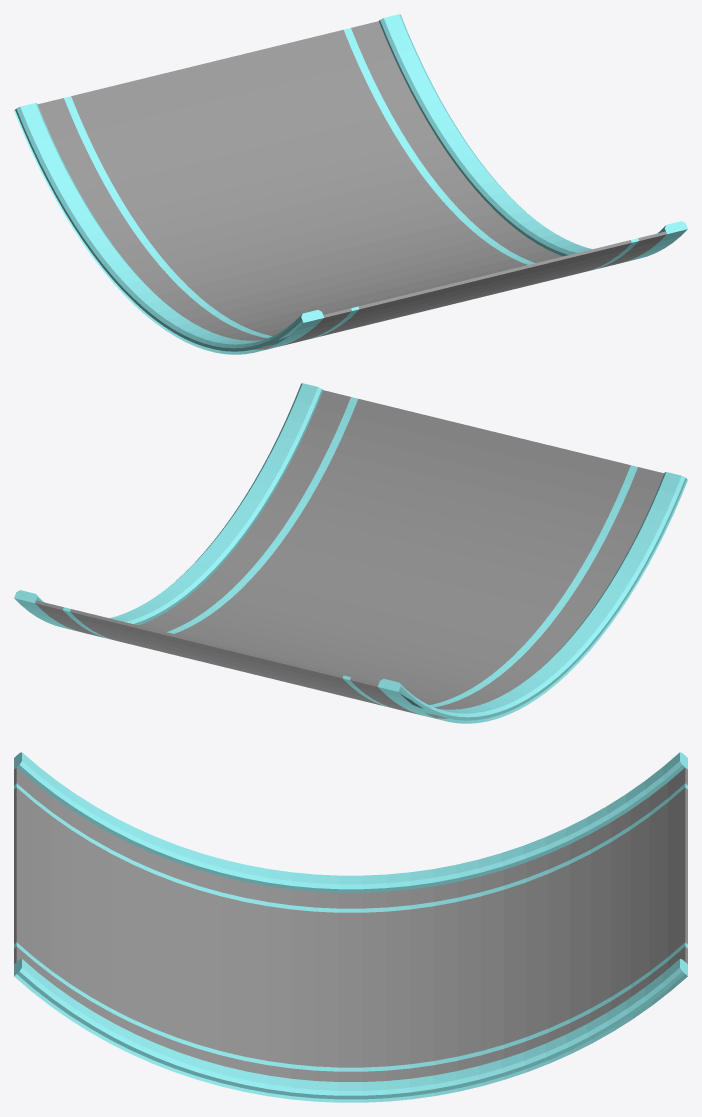
The model's file is NEW RAMP 90@.FBX.
The picture shows the model from 3 angles, top to bottom: view 1: azimuth 30°, elevation 25°; view 2: azimuth 150°, elevation 25°; view 3: azimuth 270°, elevation 25°; orthographic projection. The views are drawn at different scales.
Parts seen in each view (by area): view 1: Plane002; view 2: Plane002; view 3: Plane002.
Part boxes in pixels (bbox=[...]): Plane002: bbox=[14, 14, 687, 354]; Plane002: bbox=[14, 383, 687, 723]; Plane002: bbox=[14, 752, 687, 1102].
Bounding box in the file's own units: 0.0075 × 0.00214 × 0.00978.
